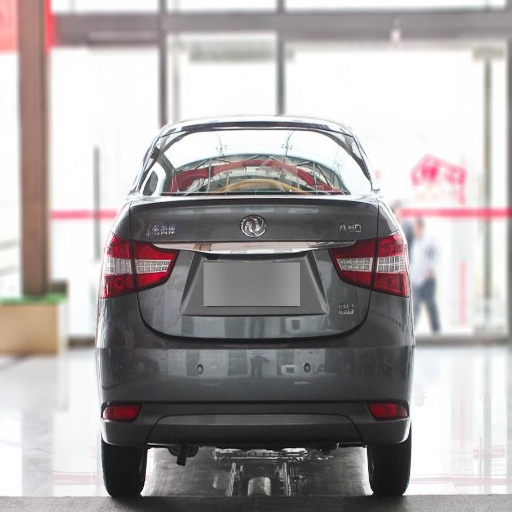back_bumper: (89, 291, 453, 454)
tailgate: (146, 194, 378, 344), (126, 194, 178, 288)
trunk: (136, 197, 306, 349), (199, 358, 296, 398)
